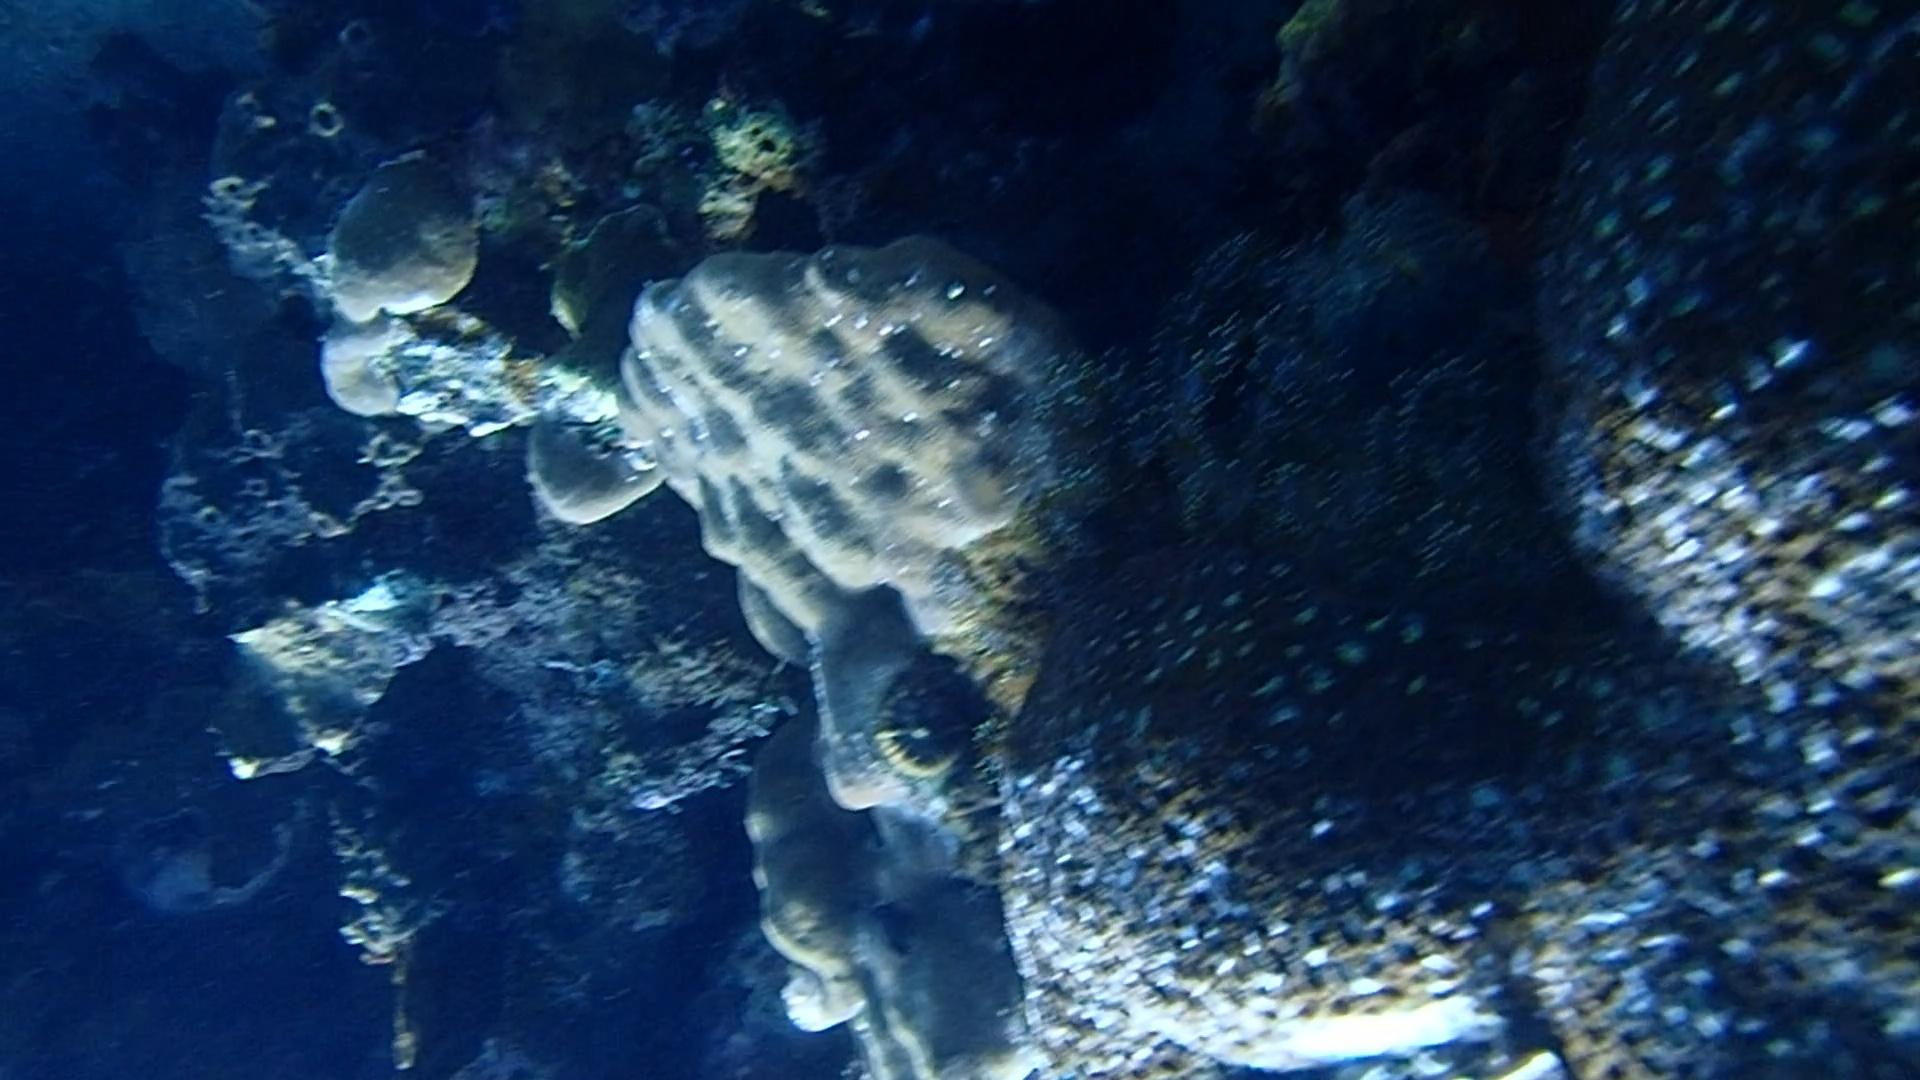Dark Fish: (628, 690, 732, 765), (857, 881, 934, 977)
